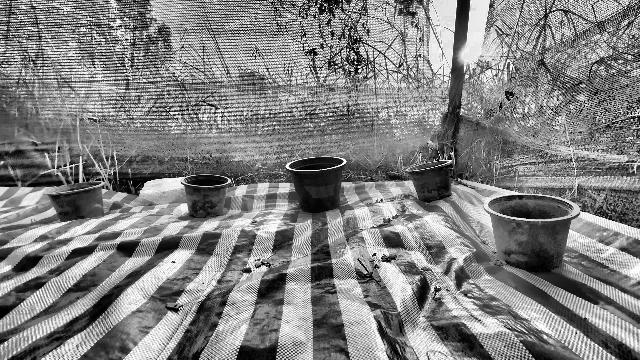pot: (482, 194, 582, 271), (284, 154, 348, 214), (42, 181, 105, 222), (179, 174, 231, 217), (404, 159, 454, 202)
